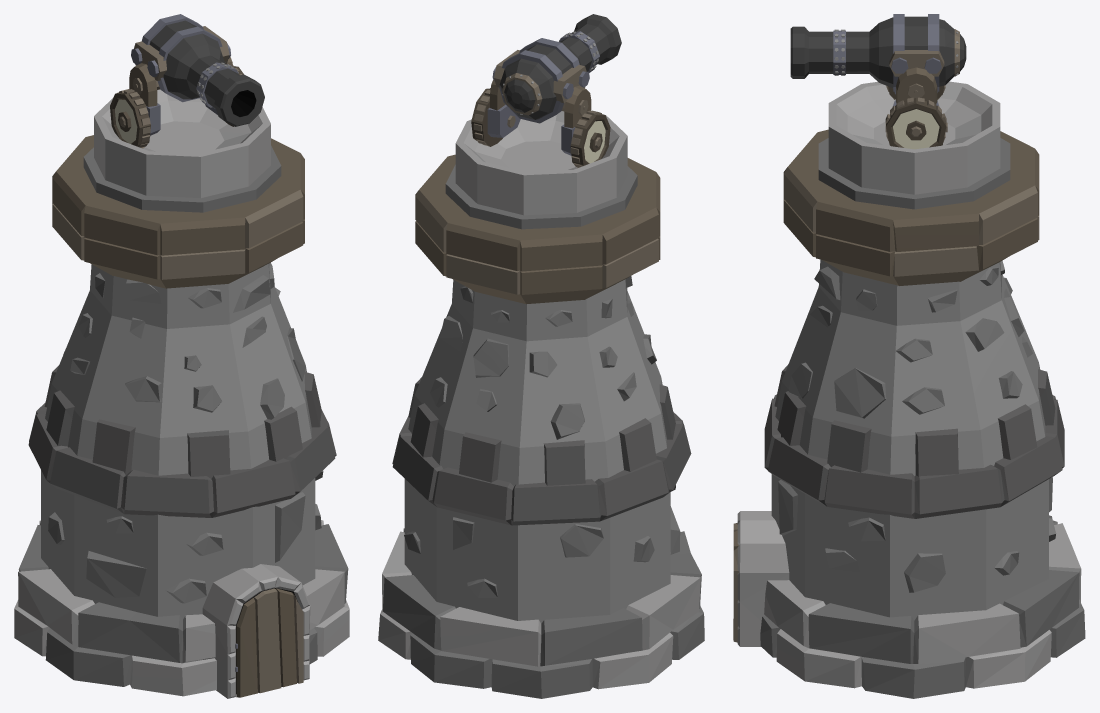
The model's file is _Cannon_tower_LVL_2.fbx.
The picture shows the model from 3 angles, left to right: view 1: azimuth 30°, elevation 25°; view 2: azimuth 150°, elevation 25°; view 3: azimuth 270°, elevation 25°; orthographic projection. The views are drawn at different scales.
Visible parts, largest first — view 1: Cannon_tower_LVL_2; view 2: Cannon_tower_LVL_2; view 3: Cannon_tower_LVL_2.
Boxes of the visible parts, x1=… form: Cannon_tower_LVL_2: x1=14, y1=14, x2=349, y2=698; Cannon_tower_LVL_2: x1=378, y1=14, x2=704, y2=698; Cannon_tower_LVL_2: x1=733, y1=14, x2=1085, y2=698.
Size of the model in its own units: 637 by 1270 by 667.
